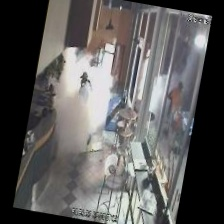smoke: (40, 39, 124, 177)
